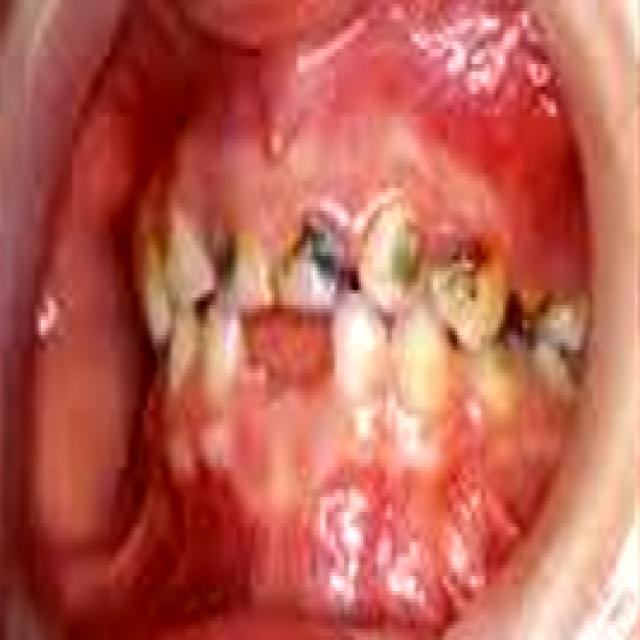cariess: (378, 207, 484, 309), (294, 226, 344, 279)
